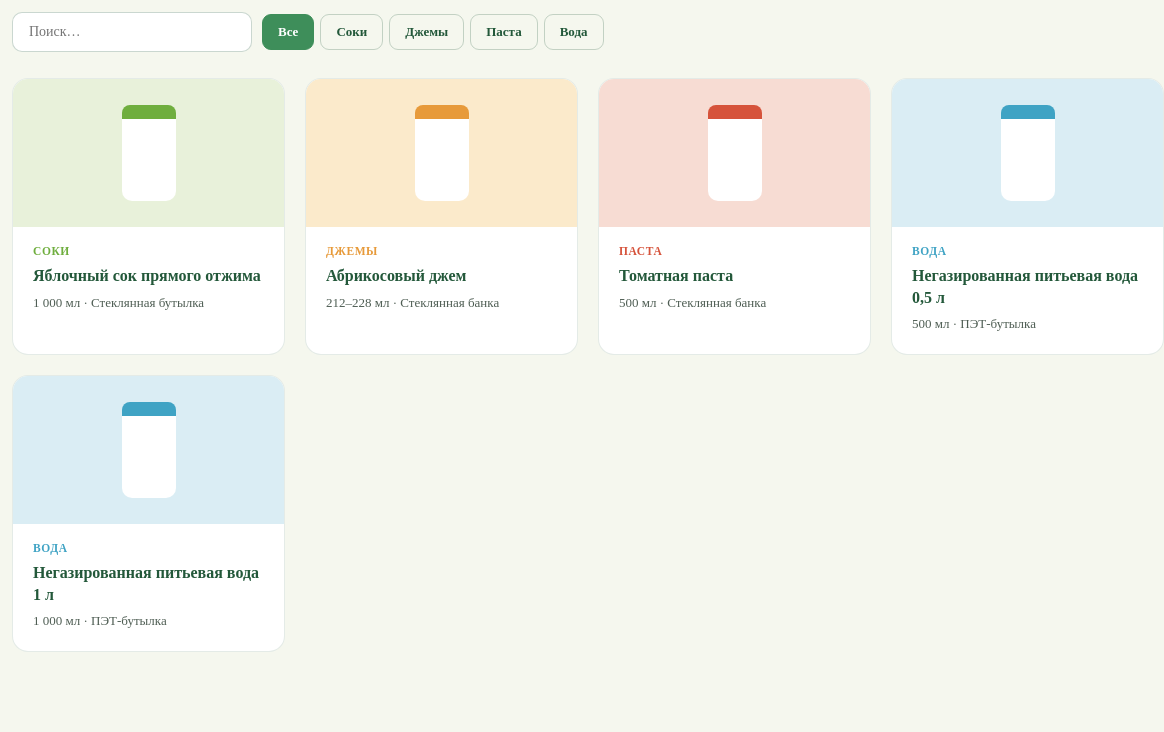
it: Catalogue › filters by line
The width and height of the screenshot is (1164, 732).
Click the button "Вода" at [574, 32], box [544, 14, 604, 50]
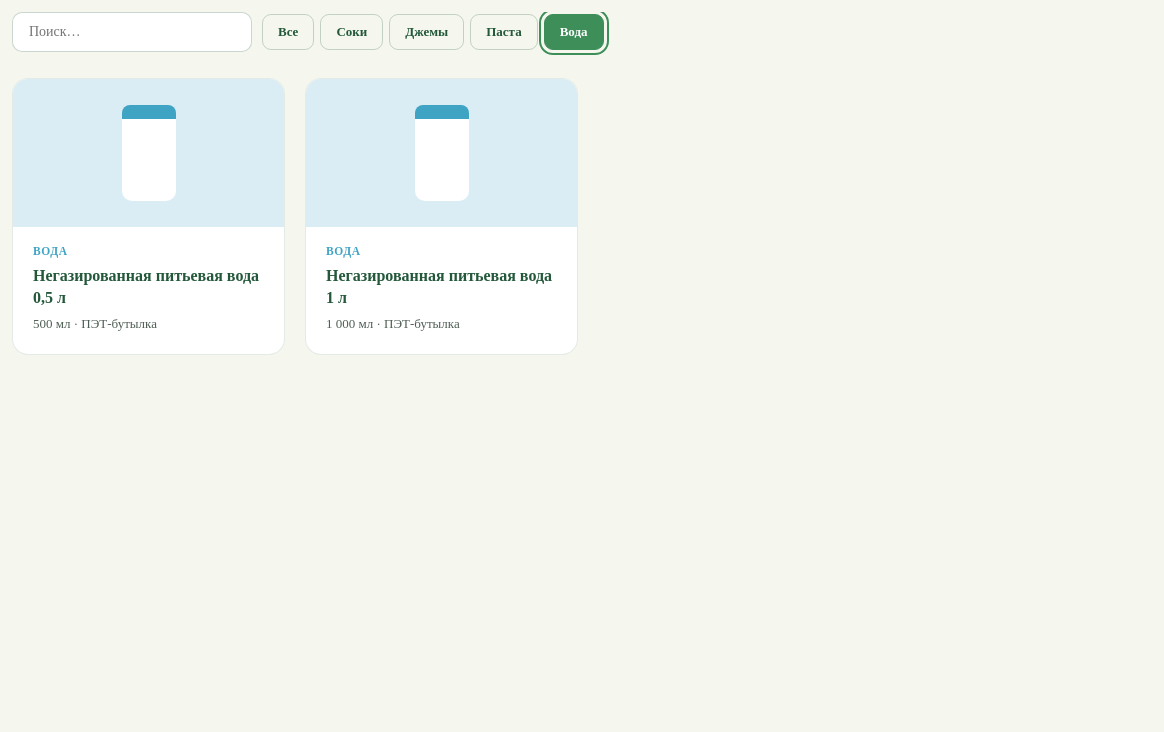
Expected: the number of list items with test id "catalogue-card" is 2, [12, 78, 285, 355]; [305, 78, 578, 355]
Expected: the link "Томатная паста" is gone
